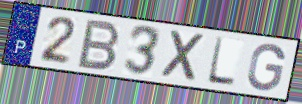2: (39, 15, 77, 65)
3: (122, 23, 162, 78)
B: (75, 18, 123, 72)
G: (245, 42, 288, 93)
L: (204, 35, 238, 88)
X: (159, 28, 208, 85)
